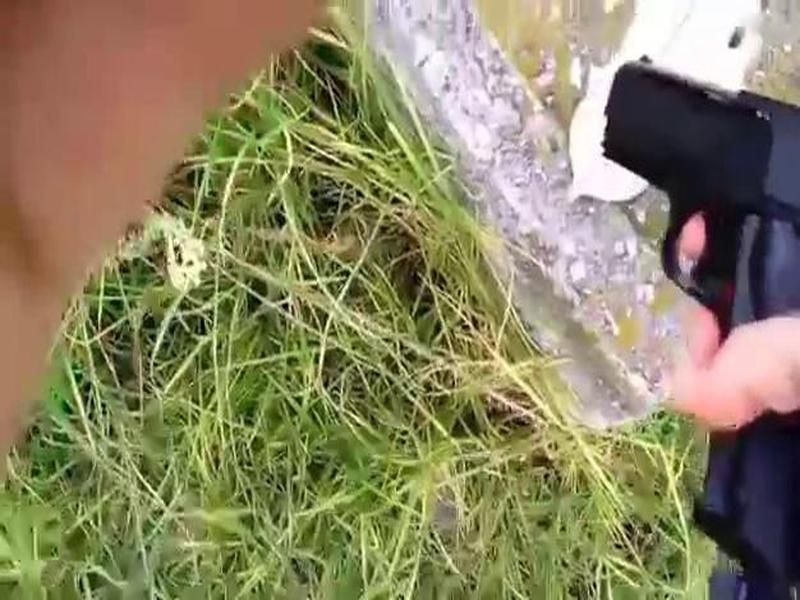Pistola: (575, 45, 800, 433)
